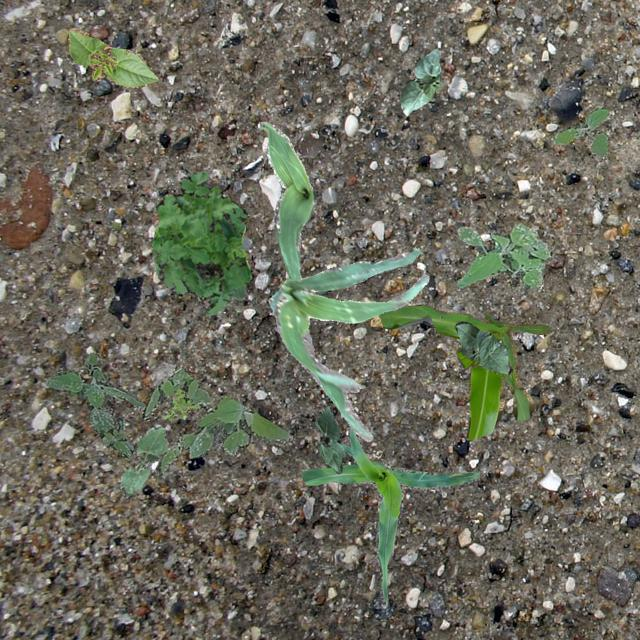crop: (300, 423, 480, 604), (268, 247, 428, 440), (378, 304, 550, 438), (256, 120, 316, 278), (68, 27, 158, 86), (119, 424, 168, 494), (454, 321, 512, 374), (399, 48, 438, 116), (314, 404, 344, 472), (230, 282, 247, 298)
weed: (140, 366, 294, 474), (150, 170, 250, 316), (44, 352, 144, 458), (456, 222, 552, 292), (552, 106, 608, 162), (162, 388, 198, 418)
